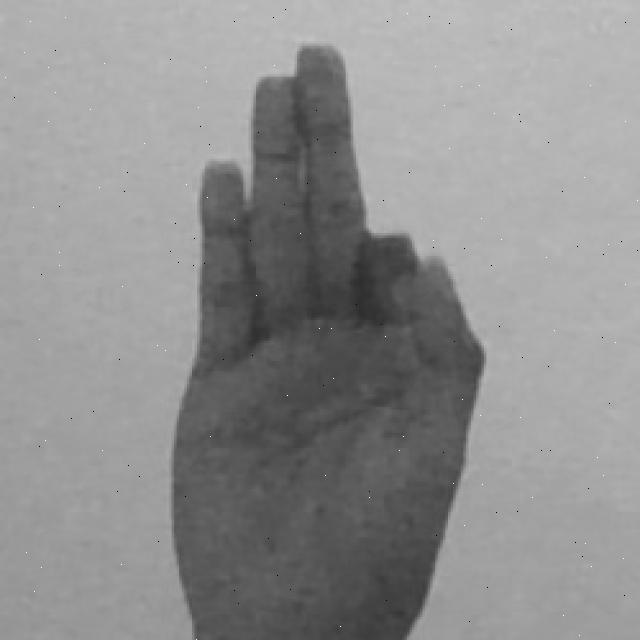F: (170, 43, 485, 640)
